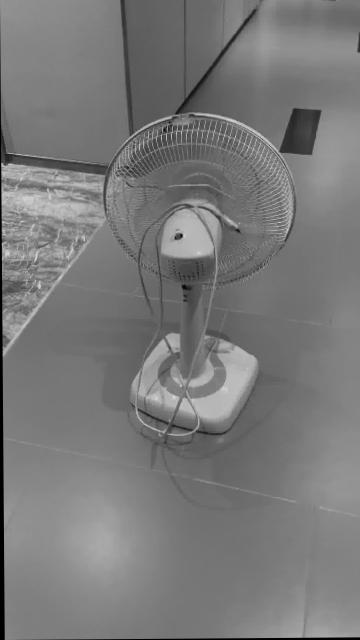Fan: (103, 113, 296, 436)
